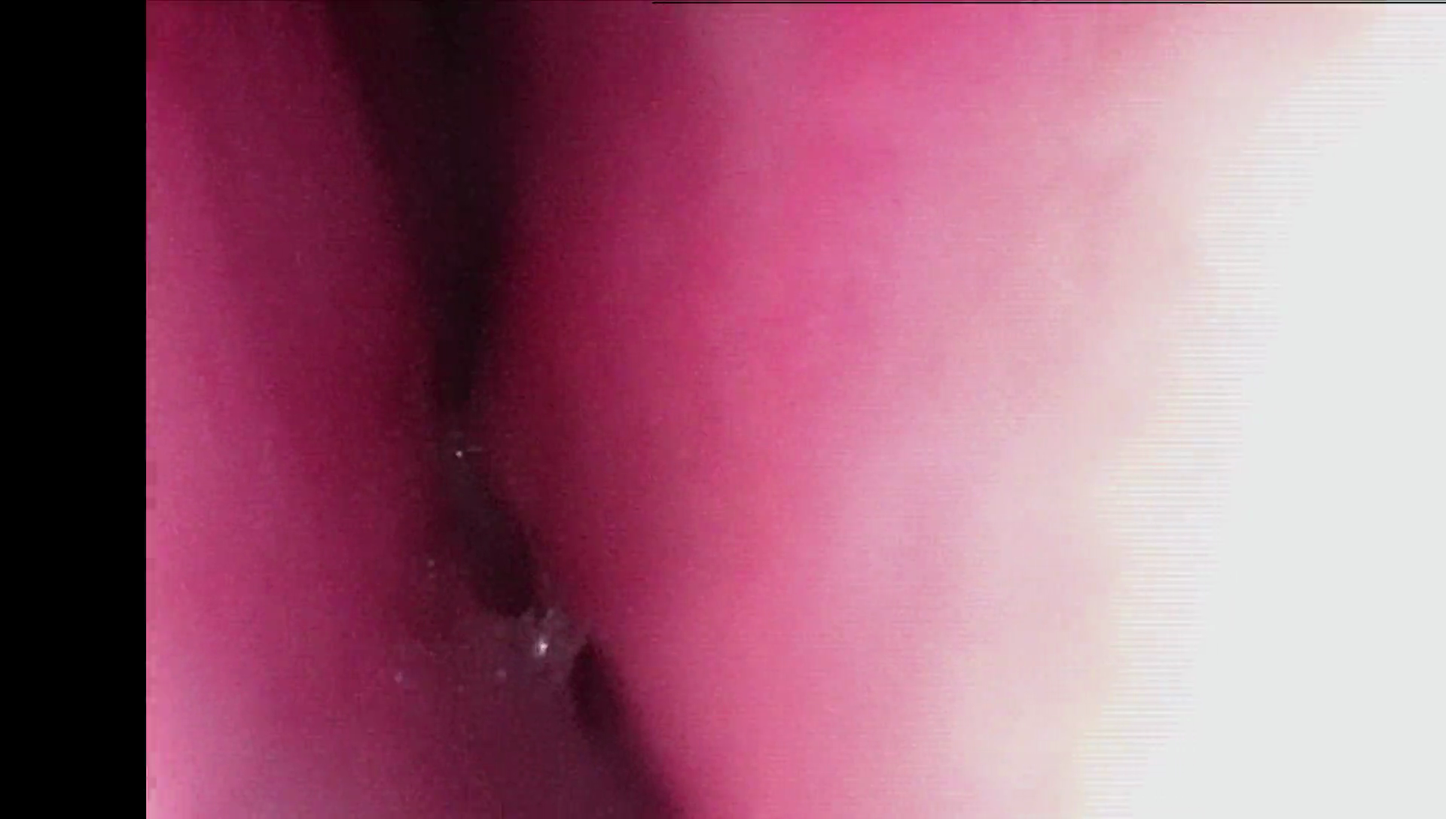close_wall: (709, 13, 1446, 819), (152, 159, 289, 819)
next: (423, 124, 511, 418), (439, 494, 572, 628), (550, 634, 654, 787)
